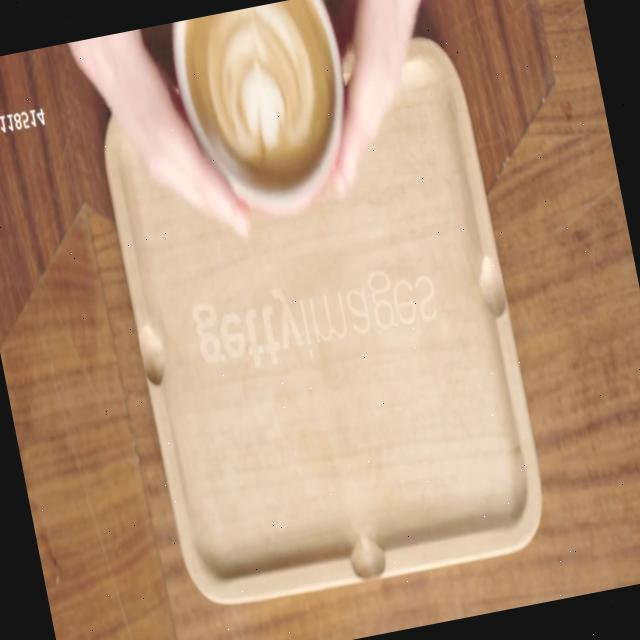cup: (165, 0, 368, 233)
tray: (92, 30, 556, 618)
